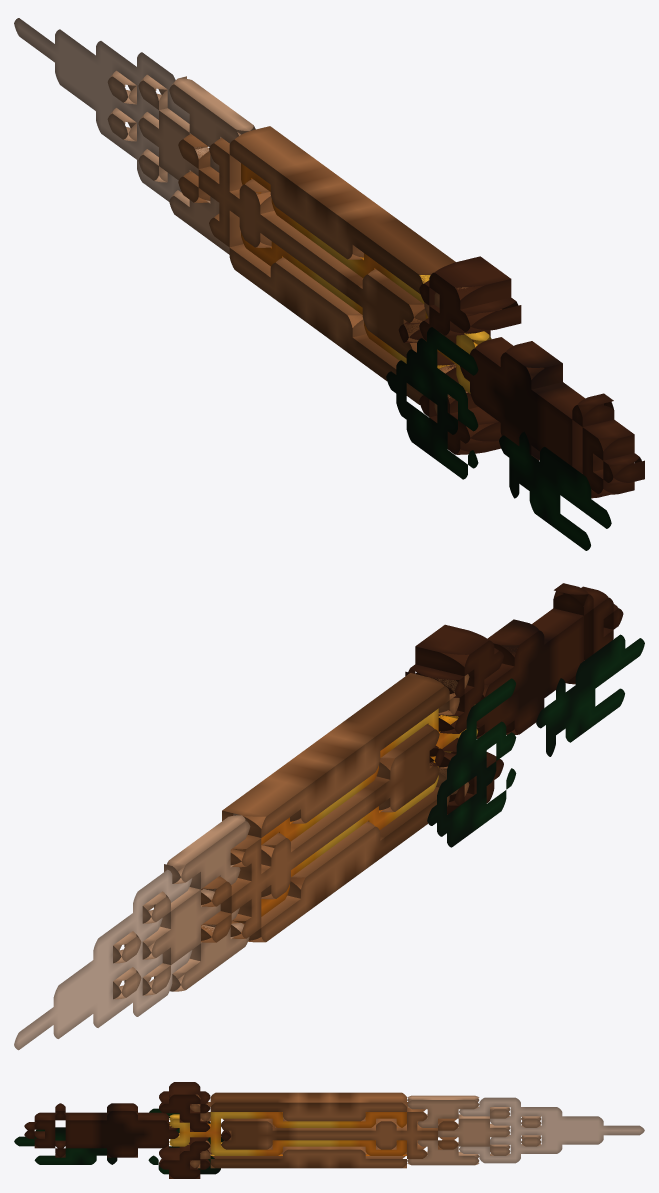
Rendered from woods_sword.obj.
3 views of the same model, one above another, from view 1: azimuth 30°, elevation 25°; view 2: azimuth 150°, elevation 25°; view 3: azimuth 270°, elevation 25° (orthographic). The views are drawn at different scales.
Visible parts, largest first — view 1: woods_31, woods_26, woods_32, woods_76, woods_65, woods_42, woods_18, woods_0, woods_74, woods_81, woods_72, woods_79 (+24 smaller); view 2: woods_31, woods_26, woods_32, woods_65, woods_76, woods_18, woods_42, woods_0, woods_81, woods_74, woods_77, woods_12 (+31 smaller); view 3: woods_31, woods_26, woods_32, woods_76, woods_0, woods_74, woods_42, woods_18, woods_77, woods_41, woods_39, woods_12 (+58 smaller).
Part boxes in pixels (x1,y1,x2,y2): woods_31: (229,126,455,293); woods_26: (198,166,424,336); woods_32: (229,244,423,404); woods_76: (470,337,585,438); woods_65: (429,256,511,309); woods_42: (270,257,366,337); woods_18: (169,76,255,143); woods_0: (14,18,146,123); woods_74: (460,366,582,456); woods_81: (499,435,611,528); woods_72: (439,286,521,332); woods_79: (500,341,562,389); woods_31: (222,673,449,837); woods_26: (201,751,429,913); woods_32: (248,787,449,942); woods_65: (415,624,494,676); woods_76: (476,608,583,703); woods_18: (164,813,250,883); woods_42: (287,821,380,898); woods_0: (14,942,142,1050); woods_81: (536,638,644,728); woods_74: (475,634,583,727); woods_77: (476,652,583,738); woods_12: (142,889,220,959); woods_31: (210,1092,406,1111); woods_26: (231,1121,437,1140); woods_32: (210,1149,406,1168); woods_76: (65,1112,168,1129); woods_0: (510,1125,644,1135); woods_74: (65,1122,179,1138); woods_42: (283,1146,365,1158); woods_18: (407,1095,479,1109); woods_77: (65,1139,168,1148); woods_41: (283,1112,365,1121); woods_39: (272,1118,375,1127); woods_12: (438,1123,510,1137).
Size of the model in its own units: 0.0895 by 0.2954 by 1.82.
1 material, 1 textured.
